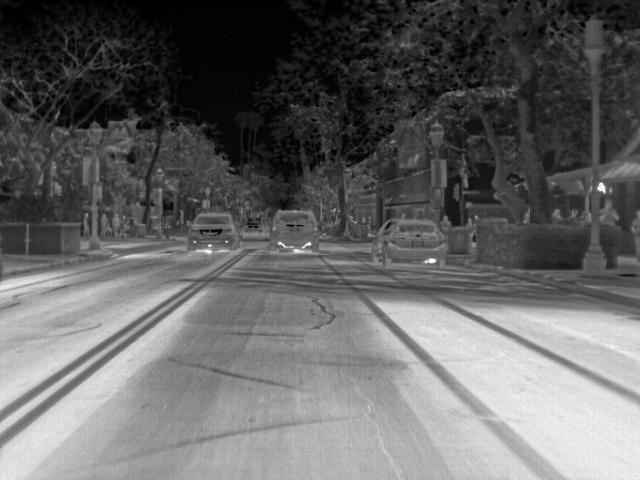car: (367, 216, 451, 267), (268, 208, 322, 254), (185, 212, 243, 252), (244, 214, 266, 232)
person: (628, 207, 639, 263), (601, 199, 620, 225), (99, 211, 112, 241), (80, 209, 93, 237), (109, 210, 121, 240), (437, 213, 452, 235), (548, 207, 565, 226)
